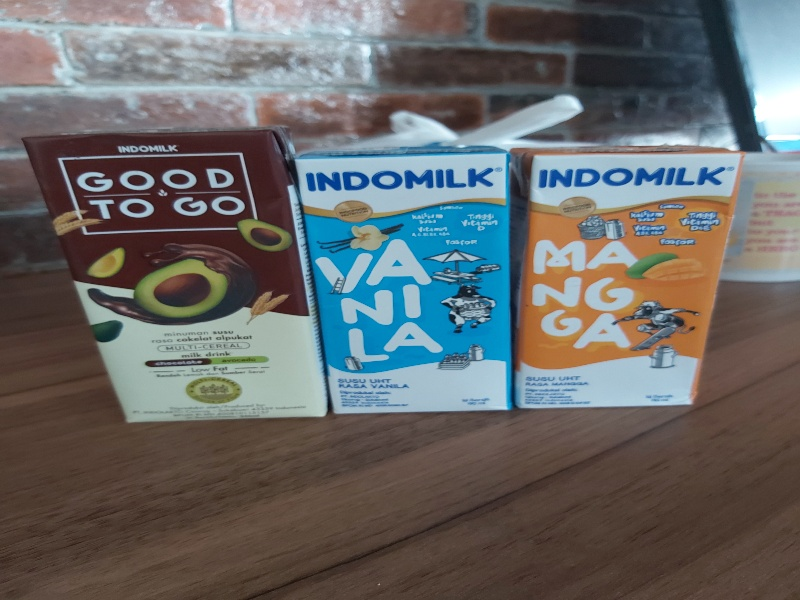cokelat: (21, 127, 327, 418)
mangga: (510, 145, 741, 405)
vanilla: (301, 147, 518, 415)
